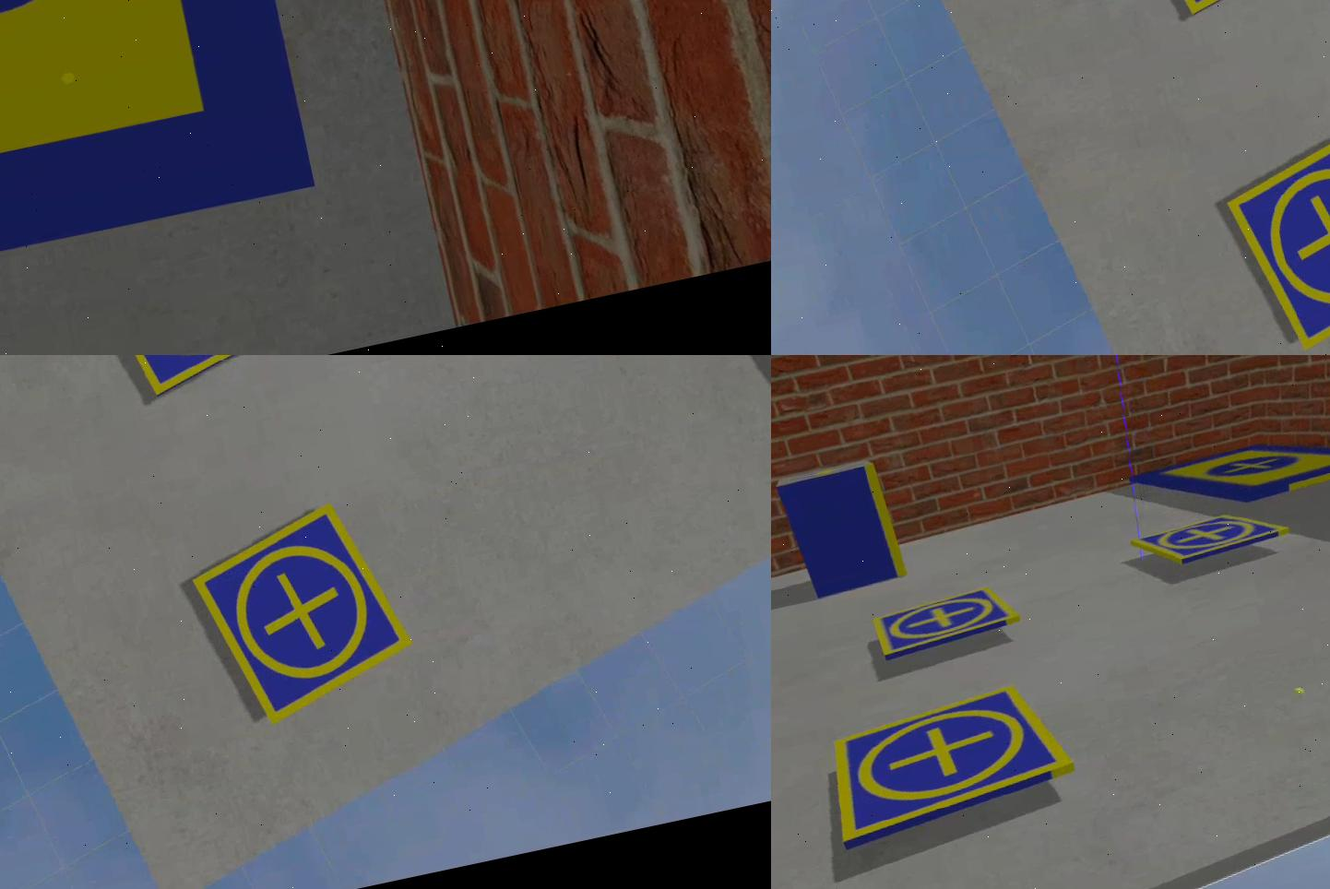large_base: (1, 1, 316, 304), (1127, 412, 1330, 527)
small_base: (180, 490, 423, 735), (821, 680, 1084, 856), (1214, 118, 1330, 355), (1125, 504, 1292, 579), (871, 581, 1027, 661), (81, 356, 299, 406)
